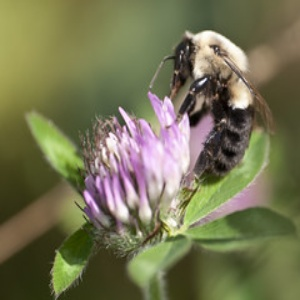bee: (159, 27, 278, 188)
